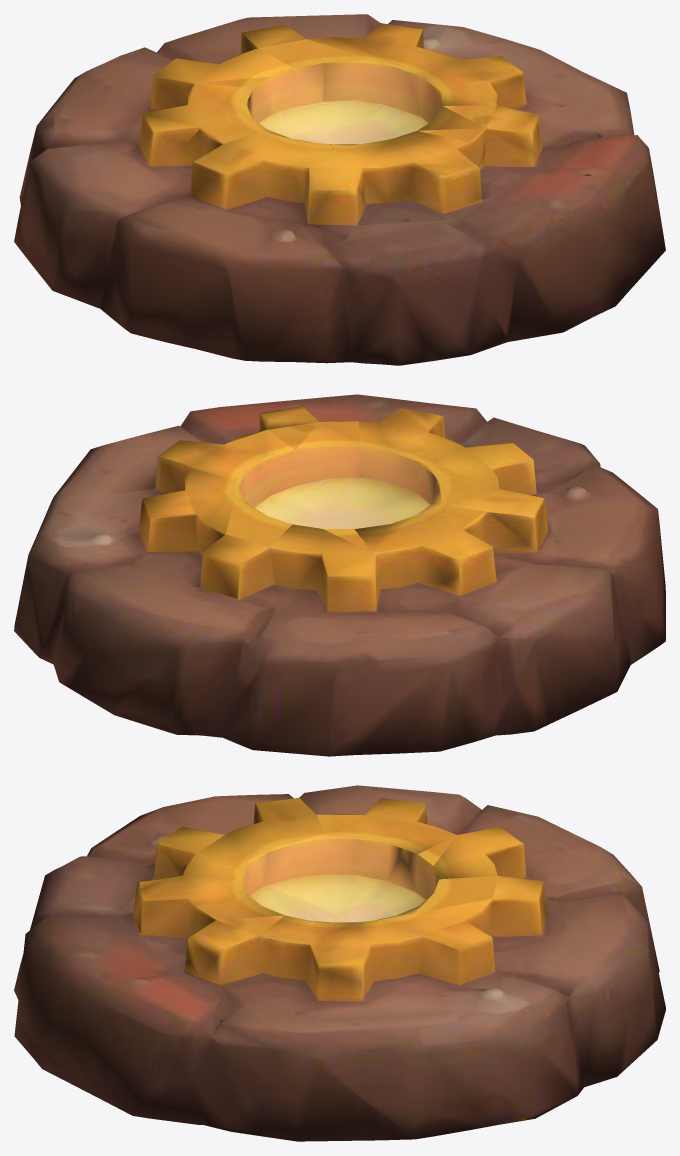
Rendered from lg-circle-altar.glb.
3 views of the same model, one above another, from view 1: azimuth 30°, elevation 25°; view 2: azimuth 150°, elevation 25°; view 3: azimuth 270°, elevation 25° (orthographic).
Parts seen in each view (by area): view 1: geometry_0; view 2: geometry_0; view 3: geometry_0.
Boxes of the visible parts, <box> form: geometry_0: <box>14,14,665,365</box>; geometry_0: <box>14,394,665,756</box>; geometry_0: <box>14,785,665,1141</box>.
Bounding box in the file's own units: 0.9937 × 0.2168 × 1.
1 material, 1 textured.
